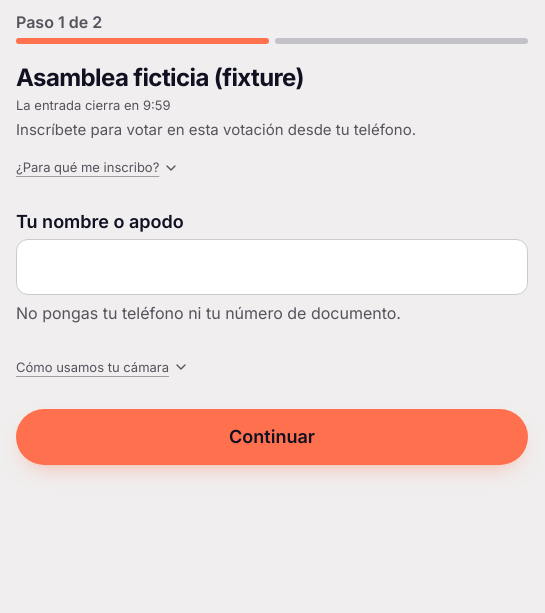
Test: RoomJoin (/j/[roomCode]) › 429 → mensaje de espera, sigue el formulario
Expected: the heading "Asamblea ficticia (fixture)" is shown, [16, 63, 304, 92]
Step 1. Type "Ana" into the field labelled "Tu nombre o apodo" → (272, 267), box [16, 239, 528, 295]
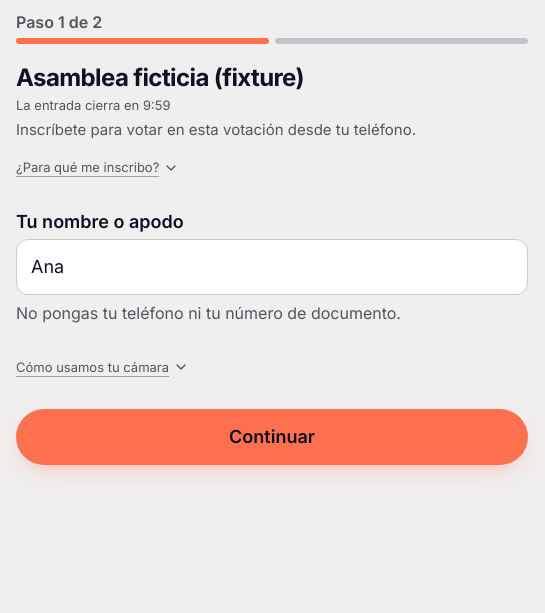
Step 2. Click the button "Continuar" → (272, 437), box [16, 409, 528, 465]
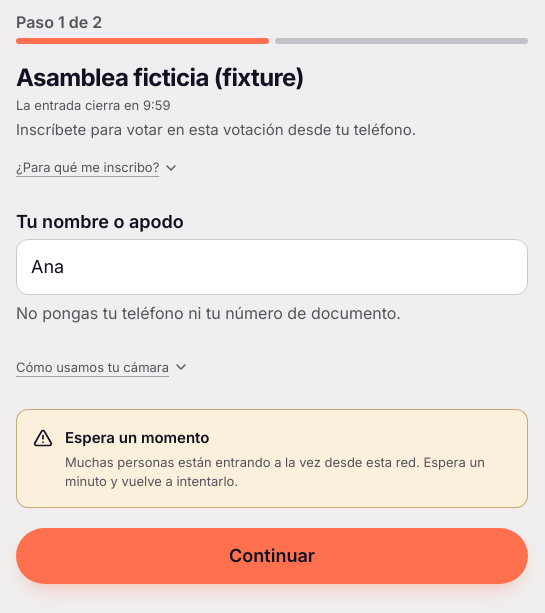
Now the text "Espera un momento" is shown, box [65, 428, 209, 447]
